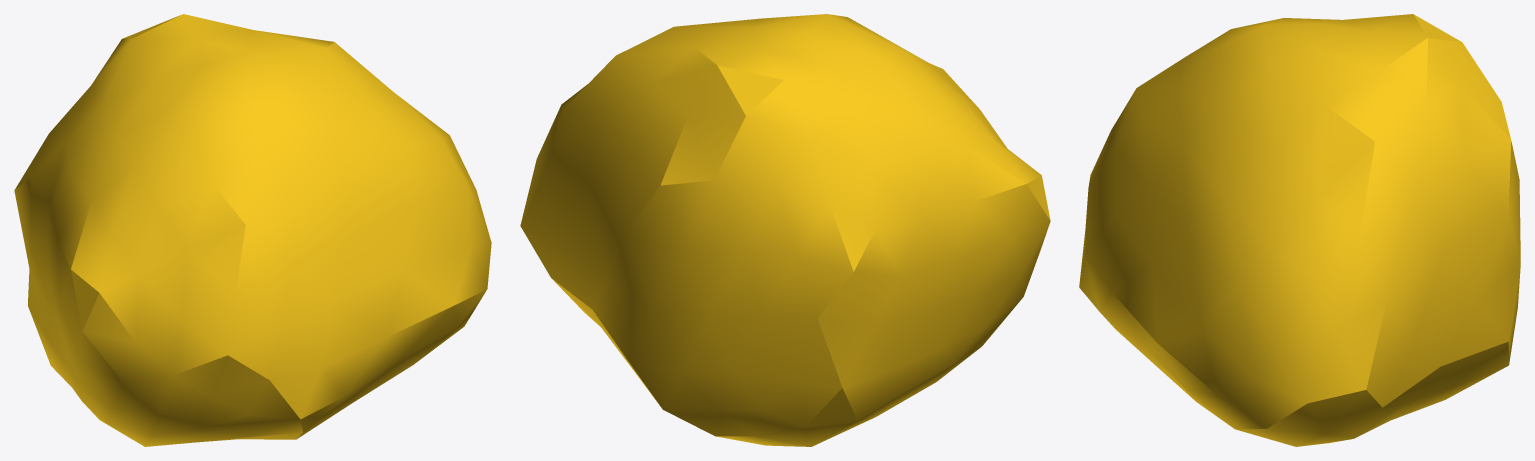
The model's file is ore_gold_2.glb.
3 views of the same model, side by side, from view 1: azimuth 30°, elevation 25°; view 2: azimuth 150°, elevation 25°; view 3: azimuth 270°, elevation 25° (orthographic). The views are drawn at different scales.
Parts seen in each view (by area): view 1: ore_gold_2; view 2: ore_gold_2; view 3: ore_gold_2.
Part boxes in pixels (bbox=[...]): ore_gold_2: bbox=[14, 14, 491, 446]; ore_gold_2: bbox=[520, 14, 1050, 446]; ore_gold_2: bbox=[1079, 14, 1520, 446].
Size of the model in its own units: 2.37 by 1.76 by 1.93.
